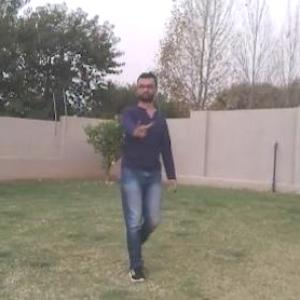takeoff-hand: (131, 114, 154, 140)
